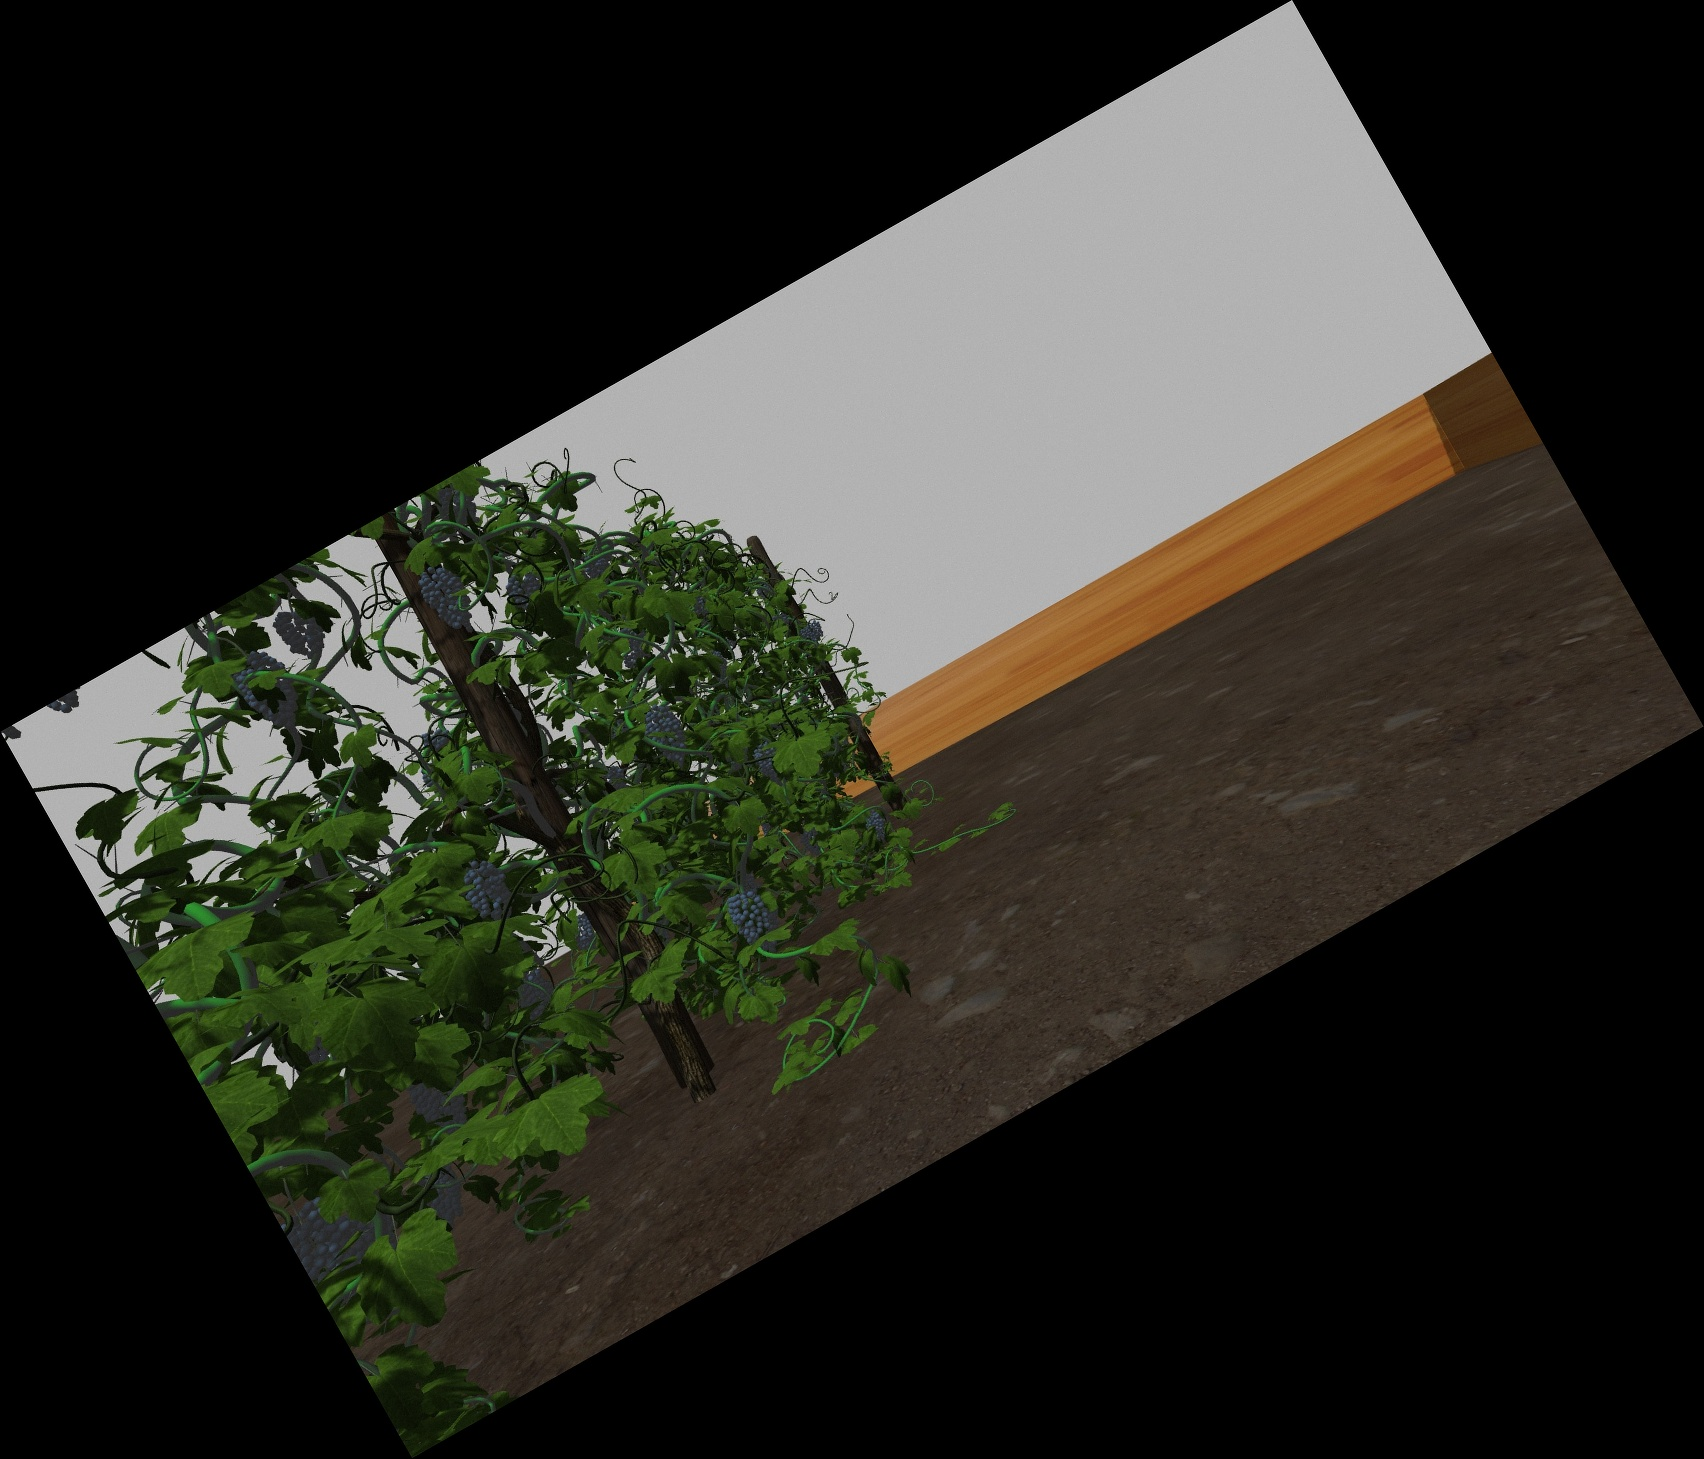grape: (297, 1193, 363, 1269), (248, 653, 294, 729), (429, 567, 466, 628), (466, 863, 507, 918), (421, 1165, 459, 1222), (650, 706, 683, 766), (282, 606, 319, 659), (735, 895, 769, 939), (416, 1084, 447, 1128), (518, 973, 553, 1010), (508, 570, 540, 605), (757, 744, 780, 786), (569, 918, 596, 950), (867, 812, 886, 841), (802, 829, 821, 855), (804, 627, 815, 643), (814, 619, 824, 637)
